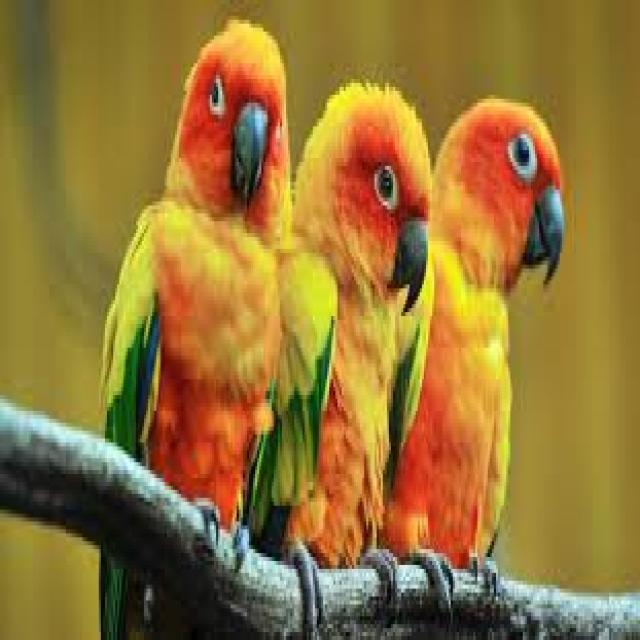Parrot: (100, 19, 293, 640), (292, 82, 438, 640), (429, 90, 566, 640)
